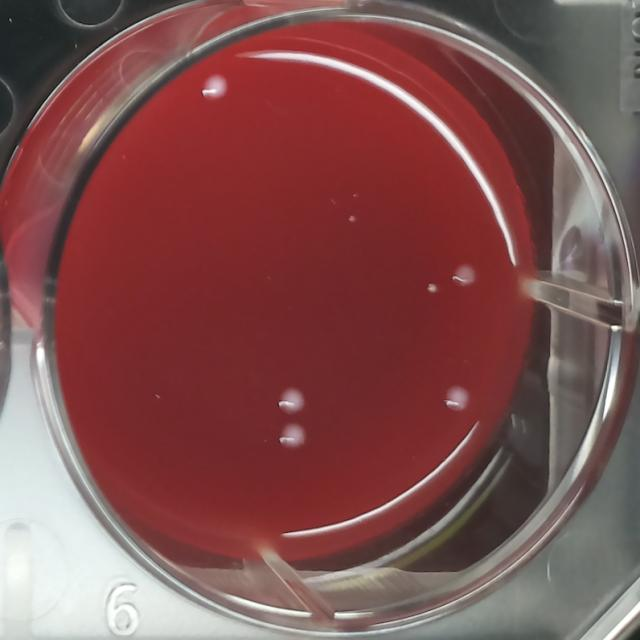Acinetobacter: (276, 419, 310, 454), (439, 382, 473, 417), (274, 384, 308, 418), (198, 70, 231, 105)
Staphylococcus: (424, 280, 440, 296)
